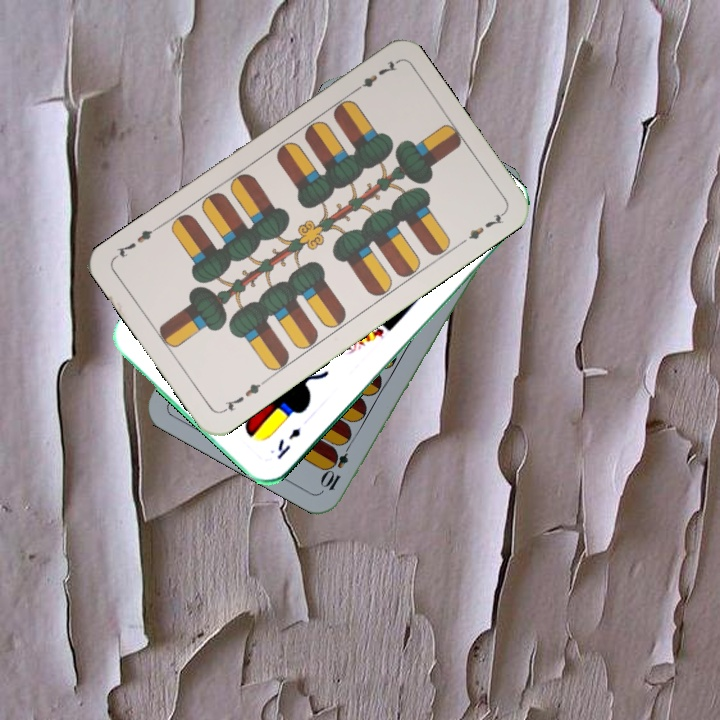E10: (318, 437, 355, 493)
E7: (218, 375, 269, 416), (348, 57, 400, 96)
EK: (272, 424, 304, 462)
